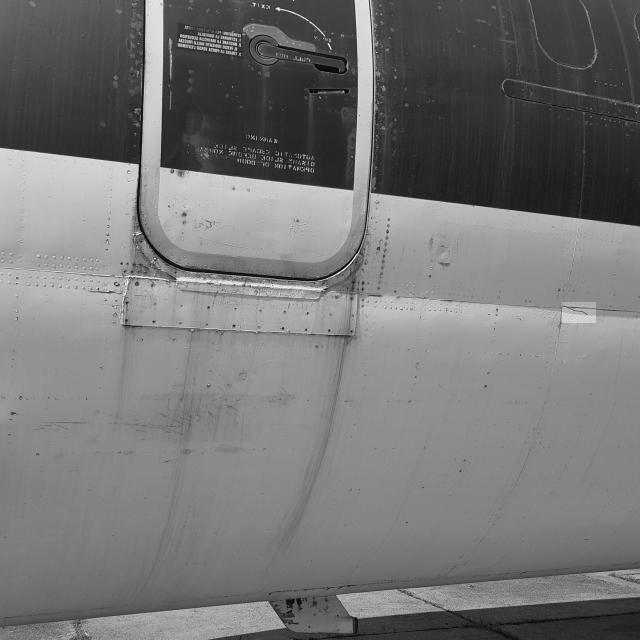crack: (563, 303, 597, 324)
